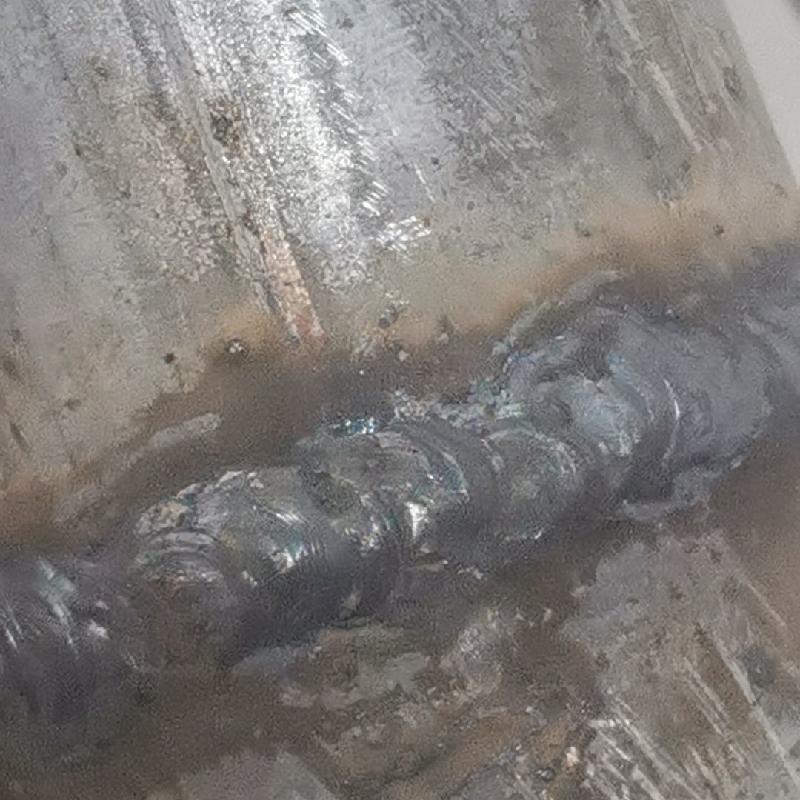good: (2, 325, 793, 751)
